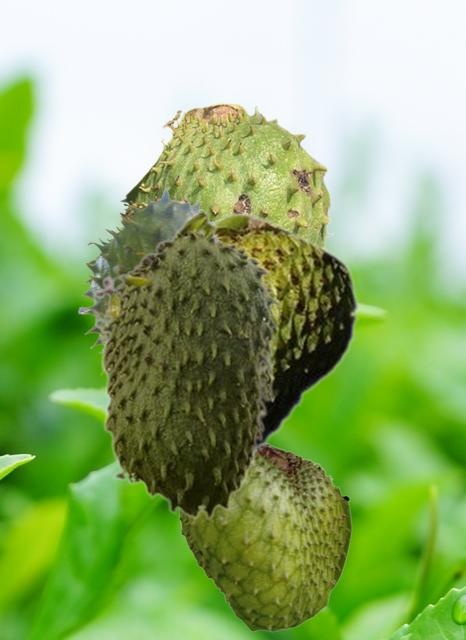guyabano: (94, 209, 282, 519), (212, 211, 359, 456), (178, 443, 351, 631), (115, 102, 333, 248), (78, 187, 219, 375)
